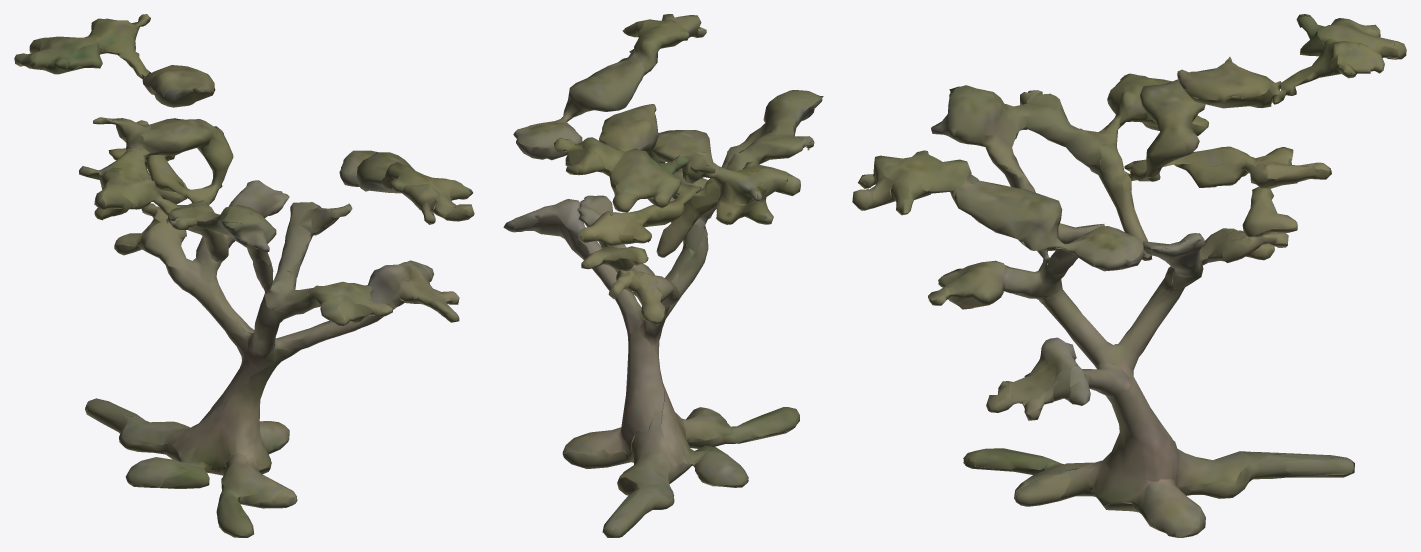
Rendered from woodland_bush_01_lod0.glb.
3 views of the same model, side by side, from view 1: azimuth 30°, elevation 25°; view 2: azimuth 150°, elevation 25°; view 3: azimuth 270°, elevation 25° (orthographic). The views are drawn at different scales.
Parts seen in each view (by area): view 1: candidate_011_lod0; view 2: candidate_011_lod0; view 3: candidate_011_lod0.
Boxes of the visible parts, bbox=[...] form: candidate_011_lod0: bbox=[14, 14, 474, 537]; candidate_011_lod0: bbox=[503, 14, 823, 537]; candidate_011_lod0: bbox=[852, 14, 1406, 537].
Bounding box in the file's own units: 0.0933 × 0.1096 × 0.1235.
Materials: 1 (1 with a texture image).
